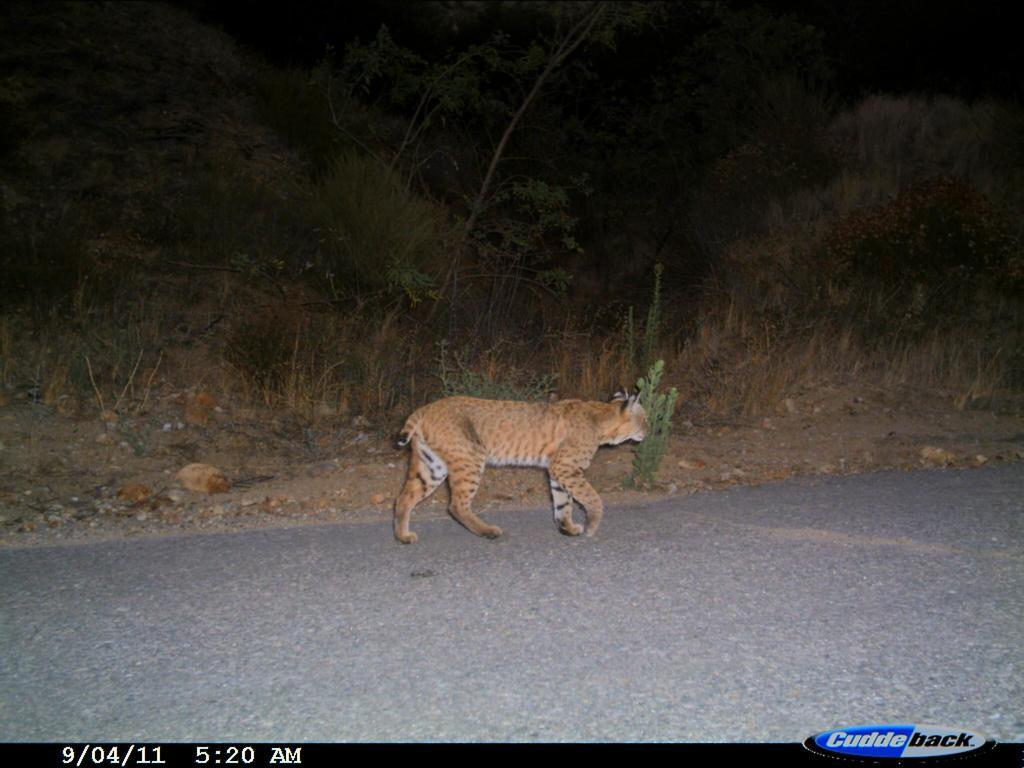bobcat: (376, 381, 658, 553)
